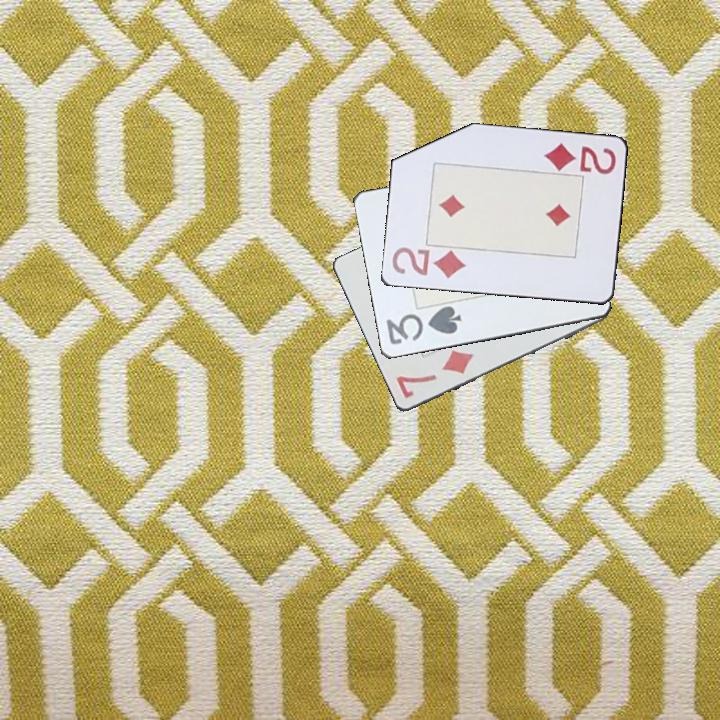2d: (388, 244, 470, 281), (539, 140, 619, 177)
3s: (383, 303, 465, 348)
7d: (392, 347, 477, 401)
